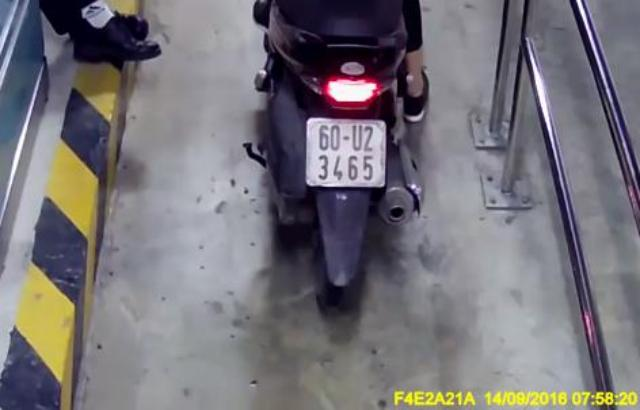plate: (298, 113, 394, 191)
